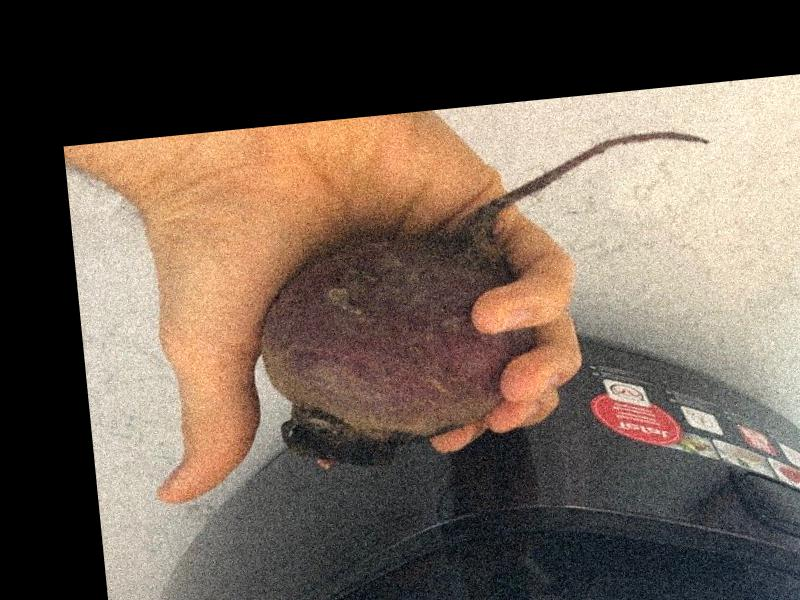Beet: (244, 125, 738, 475)
